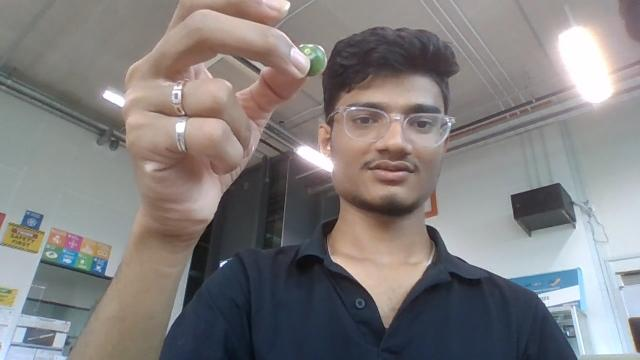Fruit Maturation: (298, 44, 327, 77)
